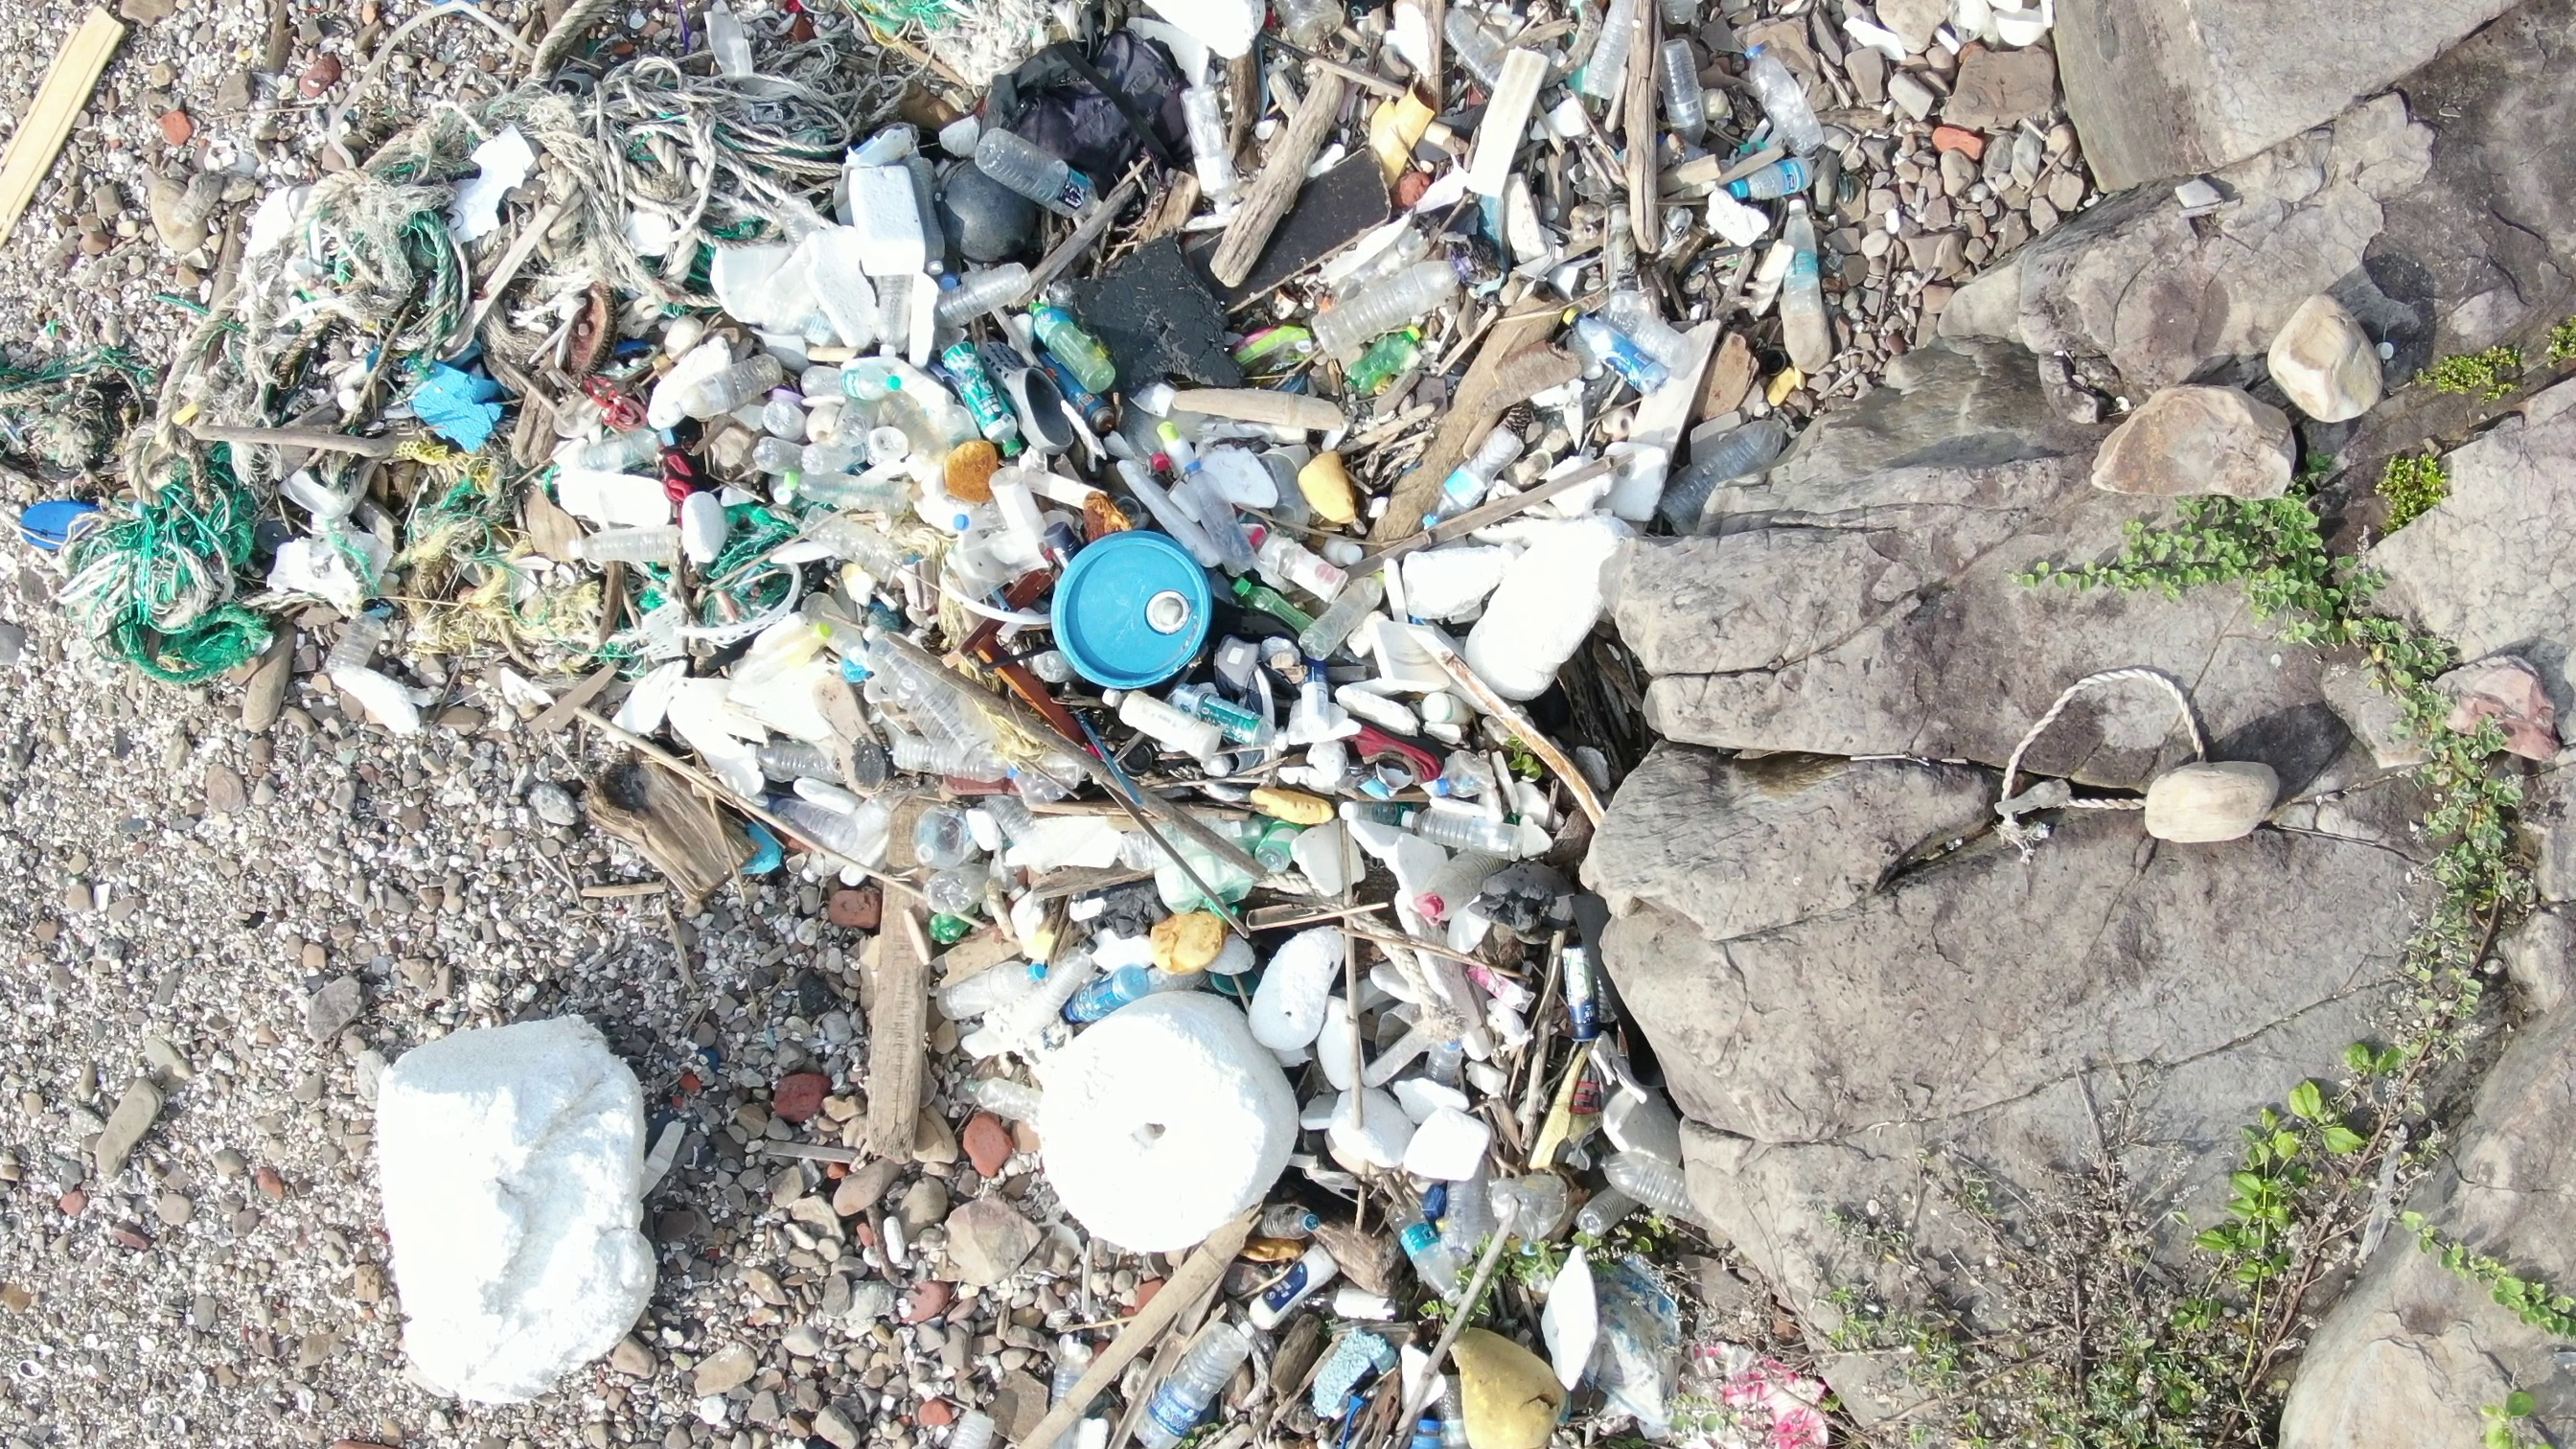bottle: (1658, 395, 1813, 536), (1313, 244, 1481, 357), (1088, 681, 1265, 782), (1131, 1318, 1260, 1449), (975, 113, 1109, 226), (1767, 193, 1845, 380), (1422, 419, 1532, 536), (943, 331, 1033, 465), (1292, 557, 1394, 671), (936, 329, 1016, 474), (1560, 292, 1665, 402), (1175, 83, 1260, 218), (924, 244, 1039, 343), (1396, 801, 1541, 869), (1376, 1185, 1461, 1299), (1743, 41, 1826, 156), (1030, 285, 1113, 398), (899, 729, 1023, 796), (1178, 460, 1253, 570), (768, 455, 899, 515), (685, 340, 780, 419), (1223, 568, 1322, 644), (1063, 952, 1159, 1026), (1656, 32, 1714, 152), (1576, 2, 1637, 119), (557, 524, 688, 577), (754, 731, 860, 791), (798, 357, 908, 410), (1727, 154, 1831, 205), (577, 430, 679, 478)
garbage: (39, 48, 1047, 782), (663, 738, 1677, 1449), (908, 9, 1854, 695), (1982, 653, 2259, 869)
